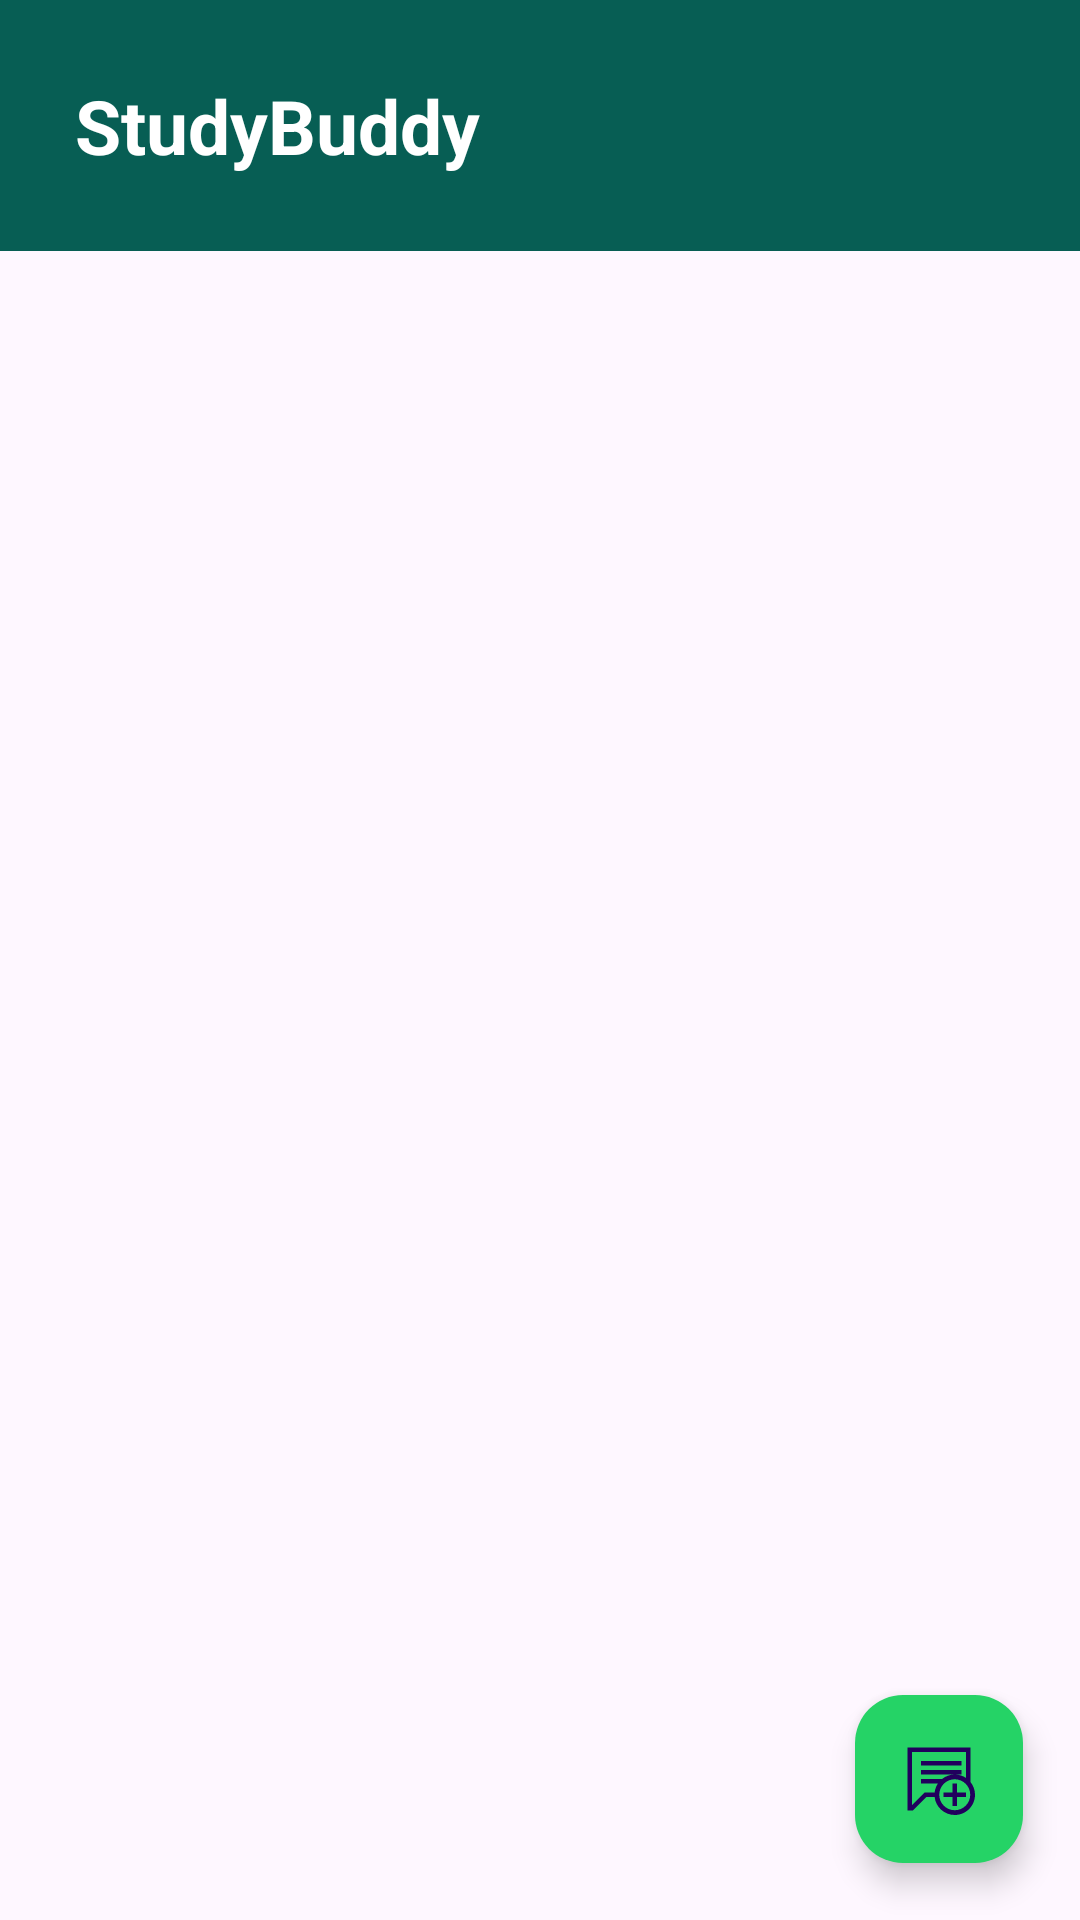

Icon bounding boxes for this 1080 x 1920 phone screenshot, format (x1, y1, x2, y2):
add: (855, 1695, 1023, 1863)
